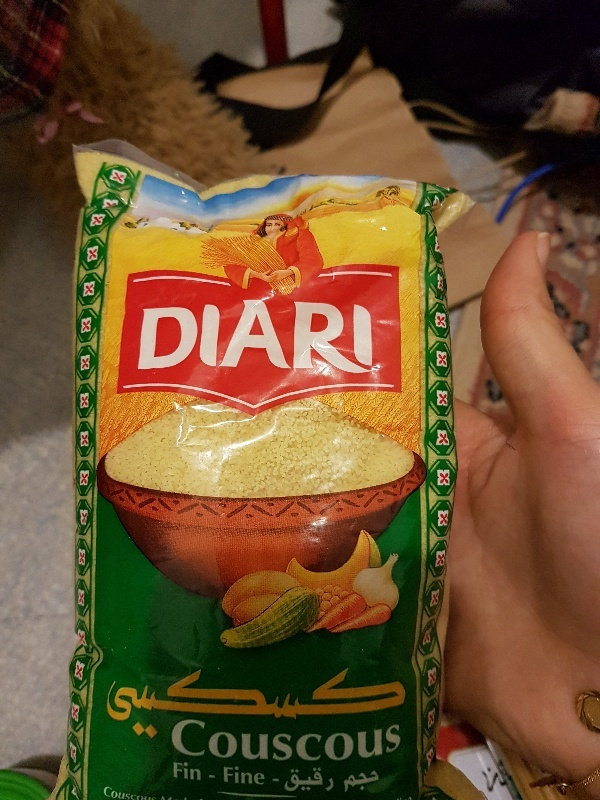text: (145, 297, 160, 375), (161, 297, 176, 375), (177, 297, 192, 375), (193, 297, 208, 375), (209, 297, 224, 375), (225, 297, 240, 375), (241, 297, 256, 375), (257, 297, 272, 375), (273, 297, 288, 375), (289, 297, 304, 375), (305, 297, 320, 375), (321, 297, 336, 375), (337, 297, 352, 375), (353, 297, 368, 375), (113, 667, 128, 741), (129, 667, 144, 741), (145, 667, 160, 741), (161, 667, 176, 741), (177, 667, 192, 741), (193, 667, 208, 741), (209, 667, 224, 741), (225, 667, 240, 741), (241, 667, 256, 741), (257, 667, 272, 741), (273, 667, 288, 741), (289, 667, 304, 741), (305, 667, 320, 741), (321, 667, 336, 741), (337, 667, 352, 741), (353, 667, 368, 741), (369, 667, 384, 741), (385, 667, 400, 741), (177, 719, 192, 762), (193, 719, 208, 762), (209, 719, 224, 762), (225, 719, 240, 762), (241, 719, 256, 762), (257, 719, 272, 762), (273, 719, 288, 762), (289, 719, 304, 762), (305, 719, 320, 762), (321, 719, 336, 762), (337, 719, 352, 762), (353, 719, 368, 762), (369, 719, 384, 762), (385, 719, 400, 762), (104, 667, 112, 741), (369, 297, 375, 375), (401, 667, 407, 741), (289, 767, 304, 792), (305, 767, 320, 792), (321, 767, 335, 792), (353, 770, 368, 793), (177, 761, 192, 782), (225, 766, 240, 786), (241, 766, 256, 786), (369, 770, 381, 793), (113, 785, 128, 800), (129, 785, 144, 800), (171, 719, 176, 762), (193, 761, 203, 782), (343, 770, 352, 793), (145, 785, 158, 800), (257, 766, 266, 786), (104, 785, 112, 800), (143, 297, 144, 375), (173, 761, 176, 782), (209, 773, 217, 780), (286, 767, 288, 792), (273, 777, 281, 783), (401, 719, 402, 762), (223, 766, 224, 786)
